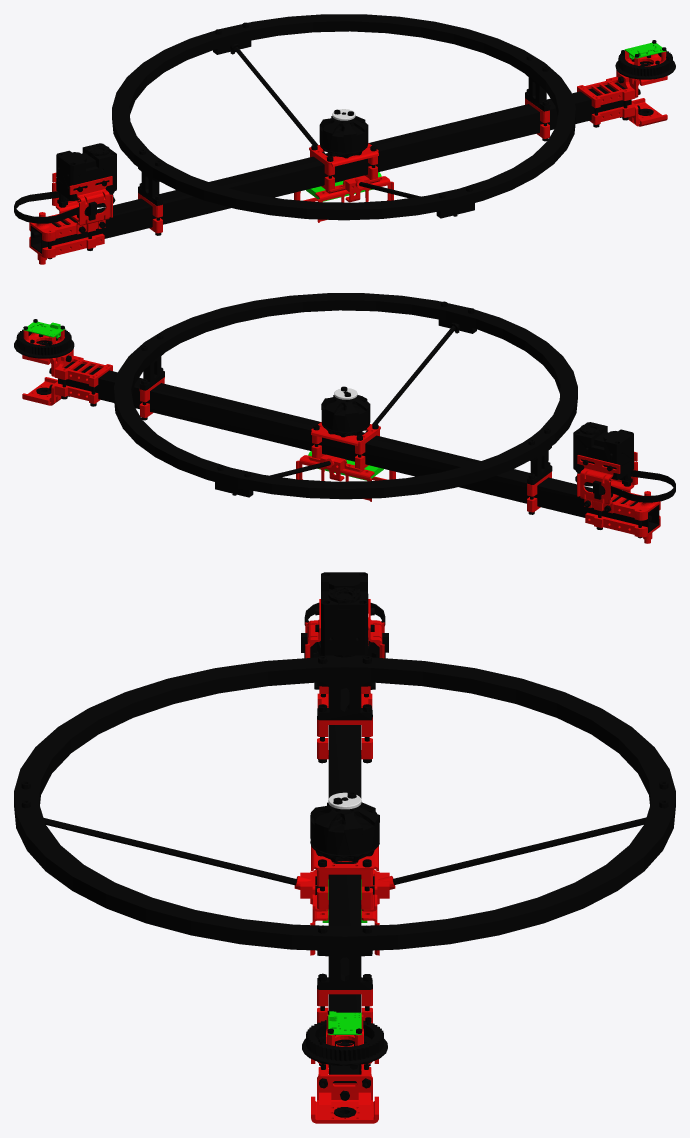
The picture shows the model from 3 angles, top to bottom: view 1: azimuth 30°, elevation 25°; view 2: azimuth 150°, elevation 25°; view 3: azimuth 270°, elevation 25°; orthographic projection. The views are drawn at different scales.
Parts seen in each view (by area): view 1: link3_black_part, link3_red_part, link3_green_part; view 2: link3_black_part, link3_red_part, link3_green_part; view 3: link3_black_part, link3_red_part, link3_green_part.
Part boxes in pixels (box(x1,y1,x2,y2)): link3_black_part: box(14, 14, 675, 259); link3_red_part: box(29, 51, 667, 264); link3_green_part: box(306, 42, 666, 201); link3_black_part: box(14, 293, 675, 538); link3_red_part: box(22, 330, 660, 543); link3_green_part: box(23, 321, 383, 480); link3_black_part: box(14, 572, 675, 1117); link3_red_part: box(294, 599, 395, 1123); link3_green_part: box(322, 879, 367, 1034).
Size of the model in its own units: 0.6504 by 0.3997 by 0.1098.
